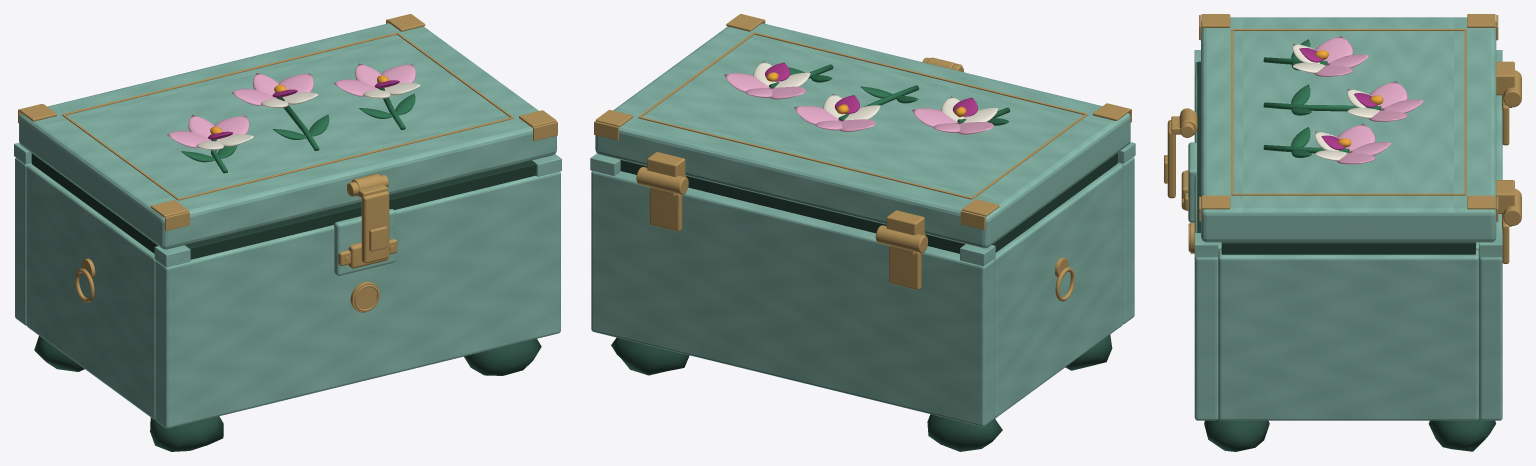
The model's file is singapore.glb.
The picture shows the model from 3 angles, left to right: view 1: azimuth 30°, elevation 25°; view 2: azimuth 150°, elevation 25°; view 3: azimuth 270°, elevation 25°; orthographic projection.
Visible parts, largest first — view 1: Celadon / long panel, Lid / polished slab, Celadon / side panel, Jade seam / long, Celadon / long panel.001, Jade foot, Jade foot.002, Latch / lifting hasp, Celadon / clasp seat, Jade seam / side, Orchid frame / long, Orchid frame / long.001 (+3 smaller); view 2: Celadon / long panel.001, Lid / polished slab, Celadon / side panel, Jade seam / long.001, Celadon / long panel, Jade foot.001, Jade foot.003, Jade seam / side, Hinge / fixed mount.001, Hinge / fixed mount, Orchid frame / long.001, Orchid frame / long (+7 smaller); view 3: Lid / polished slab, Celadon / side panel.001, Celadon / long panel.001, Celadon / long panel, Jade seam / side.001, Jade foot.002, Jade foot.003, Orchid frame / side.001, Celadon / clasp seat, Latch / lifting hasp, Jade seam / long, Orchid 2 / lobe 2 (+18 smaller).
Boxes of the visible parts, x1,y1,x2,y2 form: Celadon / long panel: (155, 171, 560, 428); Lid / polished slab: (19, 23, 556, 249); Celadon / side panel: (26, 164, 156, 419); Jade seam / long: (185, 160, 536, 259); Celadon / long panel.001: (15, 158, 31, 325); Jade foot: (150, 416, 223, 451); Jade foot.002: (464, 339, 541, 375); Latch / lifting hasp: (361, 191, 389, 263); Celadon / clasp seat: (334, 209, 395, 275); Jade seam / side: (31, 153, 157, 253); Orchid frame / long: (178, 117, 513, 200); Orchid frame / long.001: (62, 32, 397, 115); Celadon / long panel.001: (591, 171, 994, 426); Lid / polished slab: (595, 23, 1130, 248); Celadon / side panel: (994, 163, 1122, 418); Jade seam / long.001: (620, 160, 965, 253); Celadon / long panel: (1118, 157, 1134, 324); Jade foot.001: (927, 414, 1002, 451); Jade foot.003: (611, 337, 689, 375); Jade seam / side: (992, 153, 1117, 252); Hinge / fixed mount.001: (649, 187, 682, 231); Hinge / fixed mount: (889, 245, 921, 289); Orchid frame / long.001: (638, 116, 972, 199); Orchid frame / long: (754, 32, 1087, 114); Lid / polished slab: (1201, 17, 1496, 242); Celadon / side panel.001: (1218, 249, 1478, 420); Celadon / long panel.001: (1479, 95, 1502, 420); Celadon / long panel: (1194, 74, 1218, 420); Jade seam / side.001: (1221, 242, 1475, 254); Jade foot.002: (1204, 419, 1269, 451); Jade foot.003: (1428, 419, 1495, 451); Orchid frame / side.001: (1232, 193, 1465, 195); Celadon / clasp seat: (1188, 142, 1197, 222); Latch / lifting hasp: (1167, 120, 1175, 198); Jade seam / long: (1197, 61, 1200, 232); Orchid 2 / lobe 2: (1338, 124, 1375, 151).
Bounding box in the file's own units: 3.79 × 2.49 × 2.88.
Materials: 9 (1 with a texture image).
